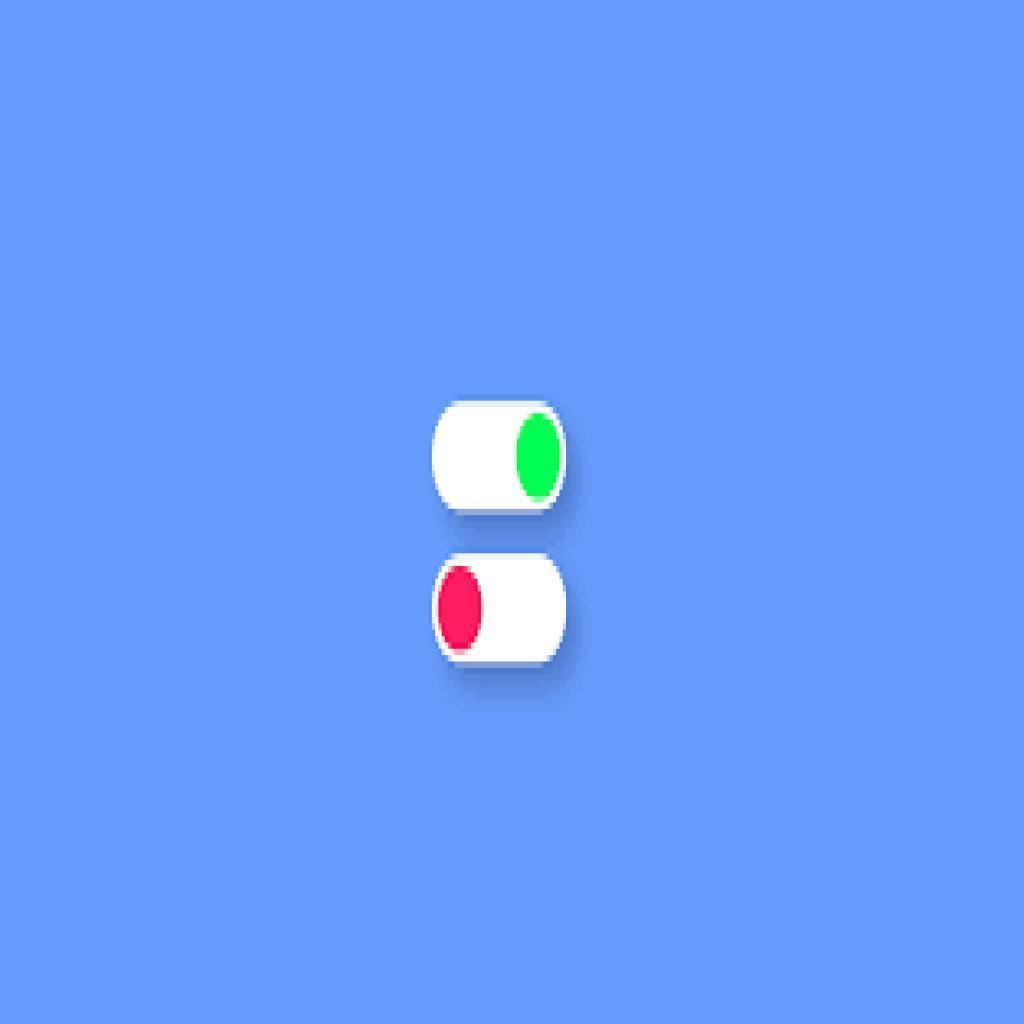switch: (430, 399, 568, 518), (432, 552, 567, 673)
